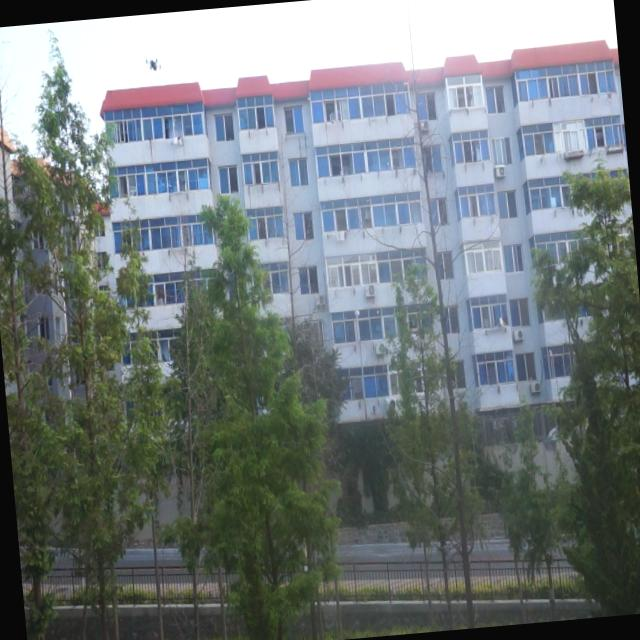drone: (142, 48, 164, 76)
